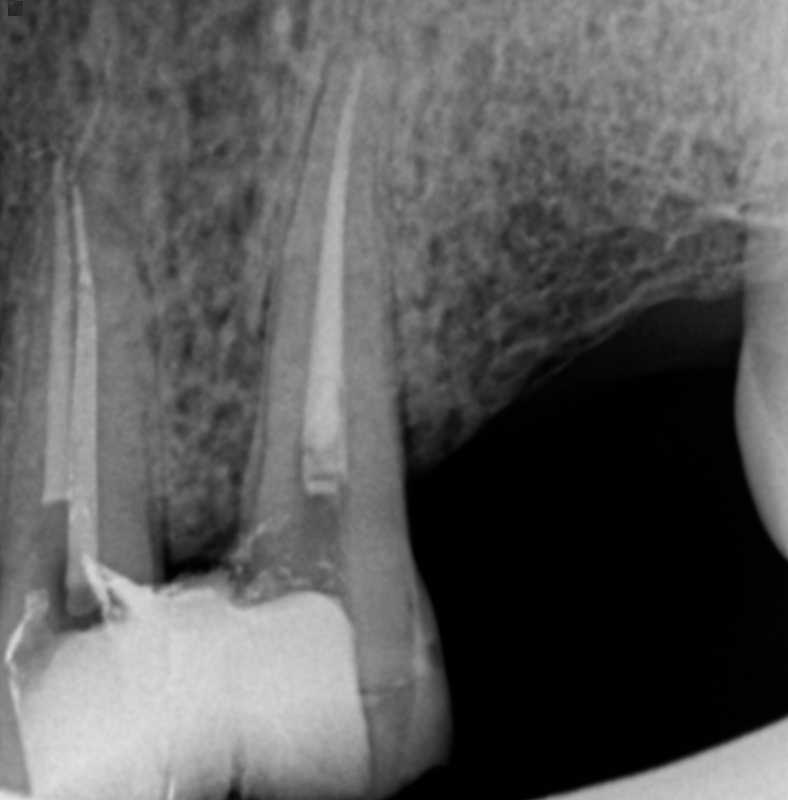Main Root: (231, 36, 418, 599), (0, 185, 160, 646)
Root Canal Filling: (299, 59, 364, 498), (70, 191, 104, 593), (38, 193, 74, 501)
